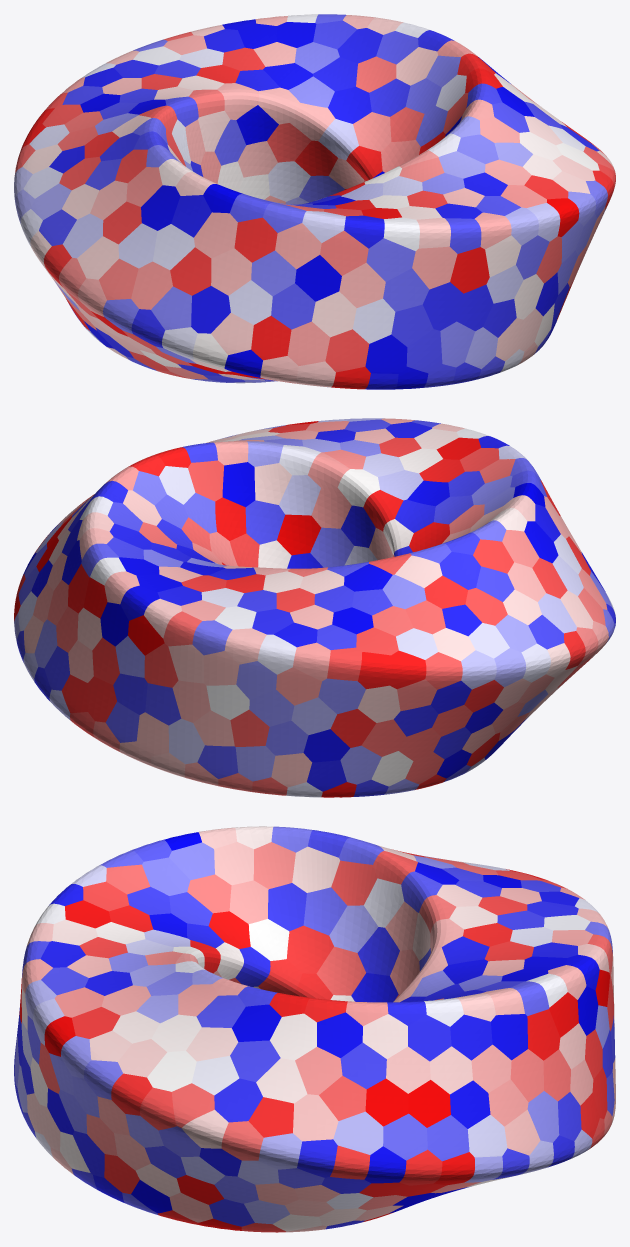
The model's file is Ours_600_mobius1_Iter41_RVD.obj.
The picture shows the model from 3 angles, top to bottom: view 1: azimuth 30°, elevation 25°; view 2: azimuth 150°, elevation 25°; view 3: azimuth 270°, elevation 25°; orthographic projection. The views are drawn at different scales.
Parts seen in each view (by area): view 1: 3D_Object; view 2: 3D_Object; view 3: 3D_Object.
Boxes of the visible parts, x1,y1,x2,y2 form: 3D_Object: (14,14,615,389); 3D_Object: (14,418,615,797); 3D_Object: (14,826,615,1232).
Size of the model in its own units: 6.8 by 2.63 by 6.26.
1 material, 1 textured.
